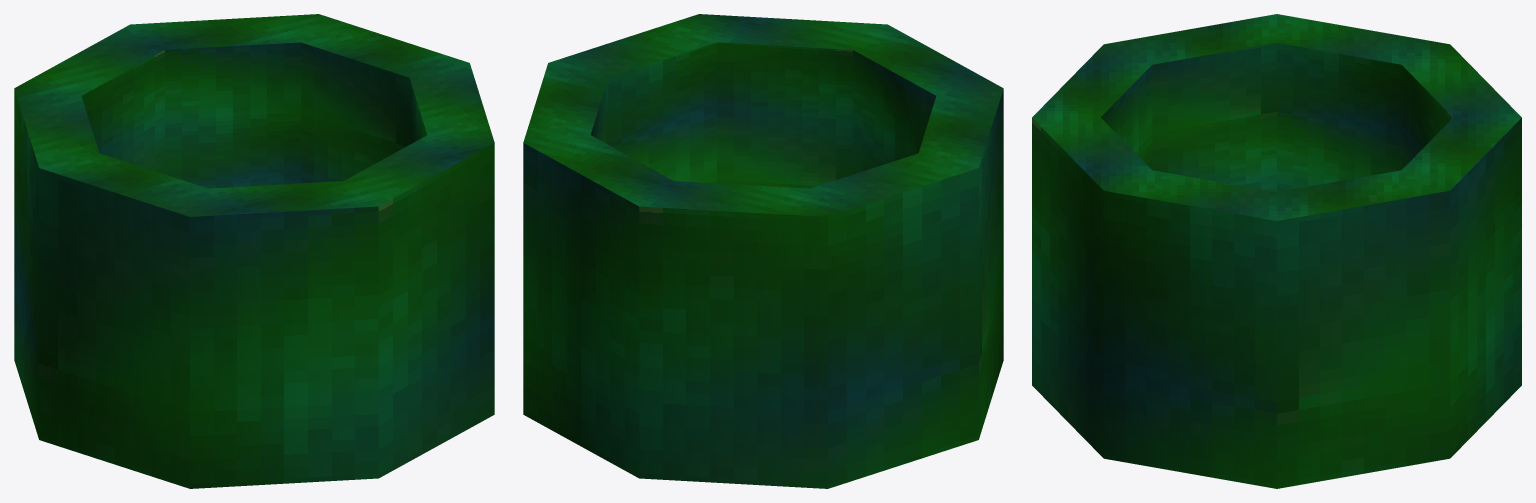
File: pipeMimic_collision.fbx
3 views of the same model, side by side, from view 1: azimuth 30°, elevation 25°; view 2: azimuth 150°, elevation 25°; view 3: azimuth 270°, elevation 25° (orthographic).
Visible parts, largest first — view 1: Cylinder002; view 2: Cylinder002; view 3: Cylinder002.
Part boxes in pixels (left/top/right/bottom): Cylinder002: left=14, top=14, right=494, bottom=488; Cylinder002: left=523, top=14, right=1003, bottom=488; Cylinder002: left=1032, top=14, right=1521, bottom=488.
Size of the model in its own units: 406 by 245 by 406.
Materials: 1 (1 with a texture image).
